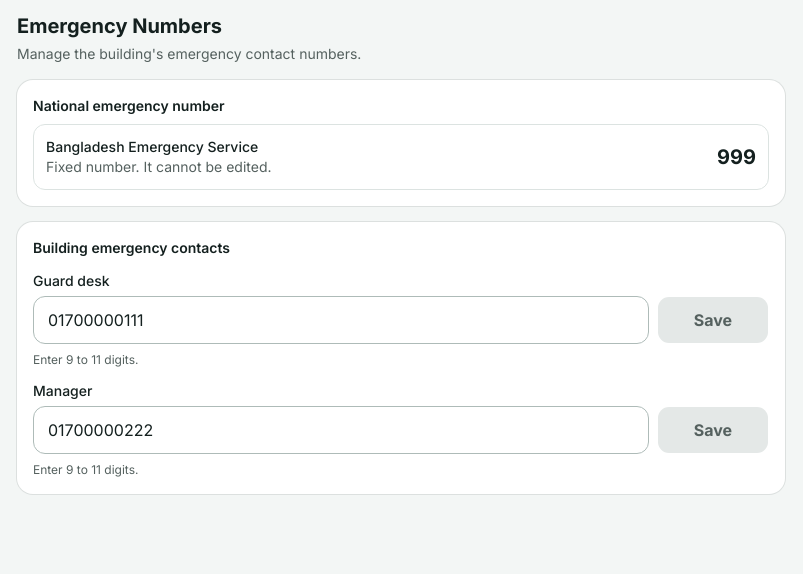
Test: BB-2007 Manager Emergency Numbers Page › updates the Guard desk number
Replace the text in the field labelled "Guard desk" with "01800000111" at (341, 320), box left=33, top=296, right=649, bottom=344
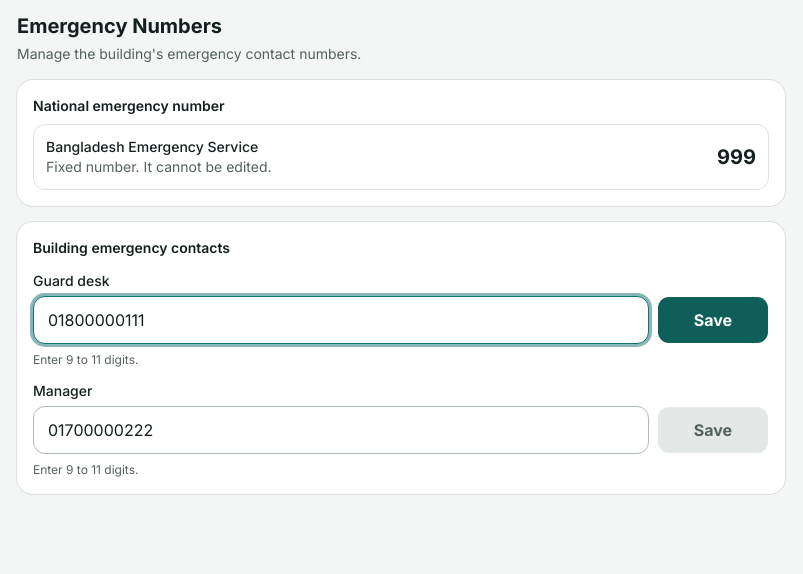
Click the 1st button "Save".
click(713, 320)  # box left=657, top=296, right=769, bottom=344
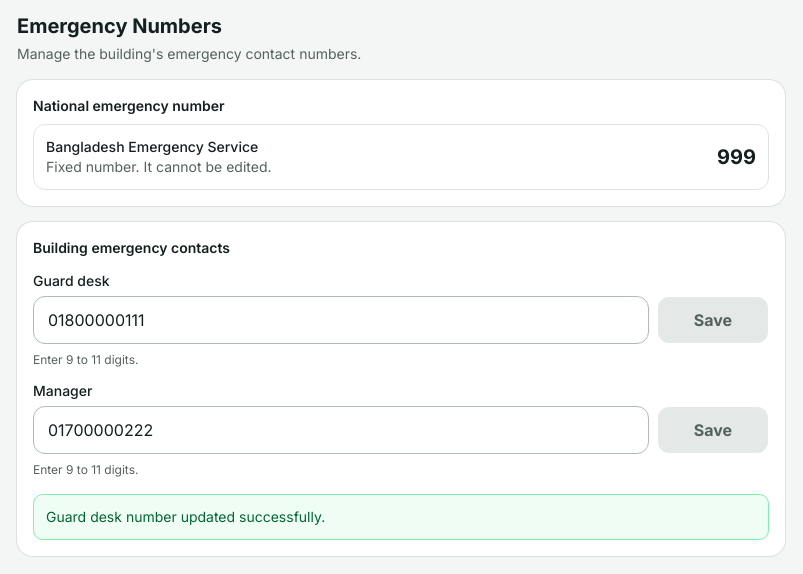
Now the text "Guard desk number updated successfully." is shown, box left=33, top=494, right=769, bottom=540
